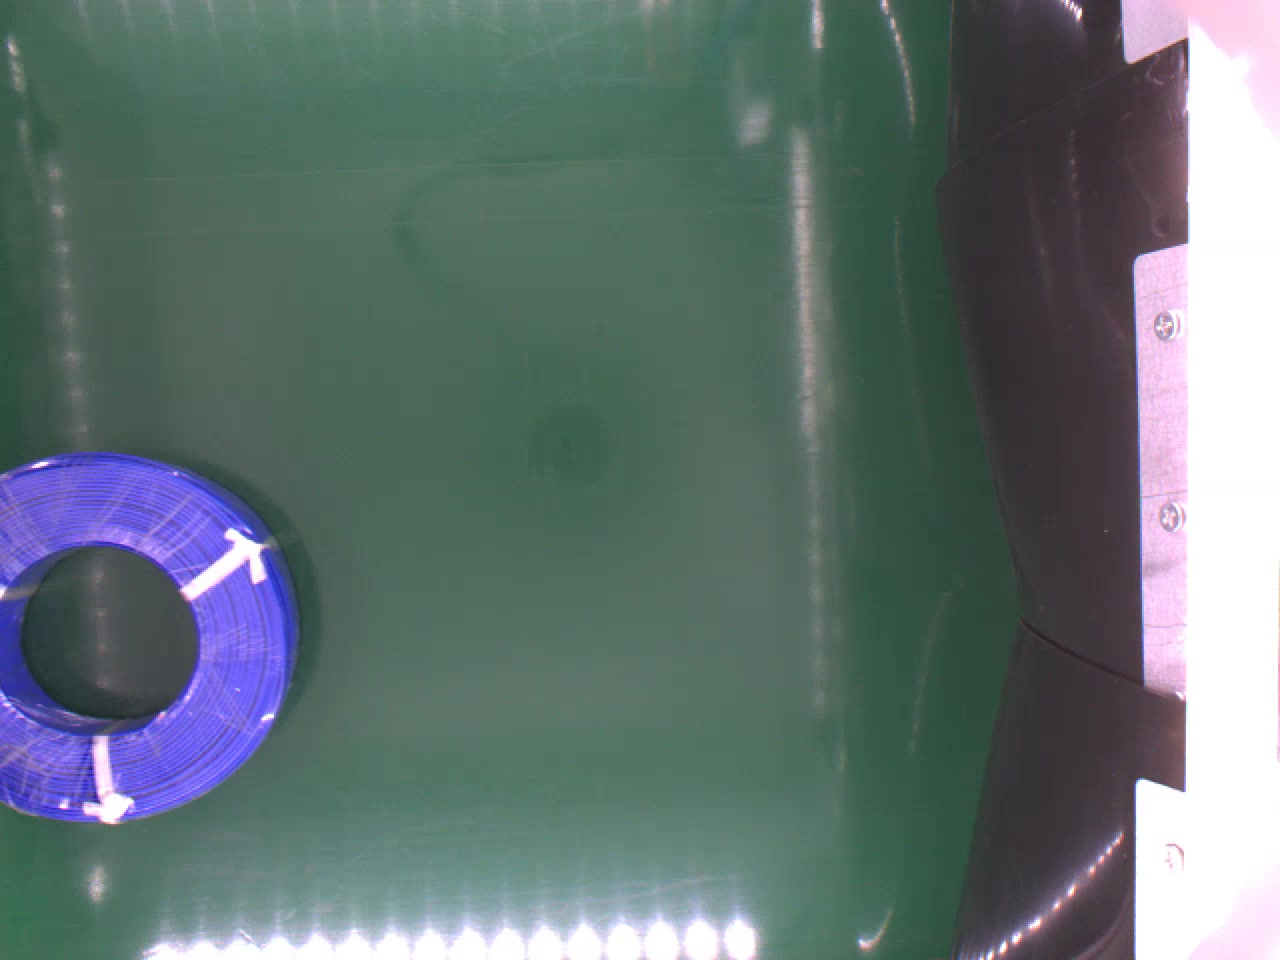blue: (0, 456, 299, 828)
